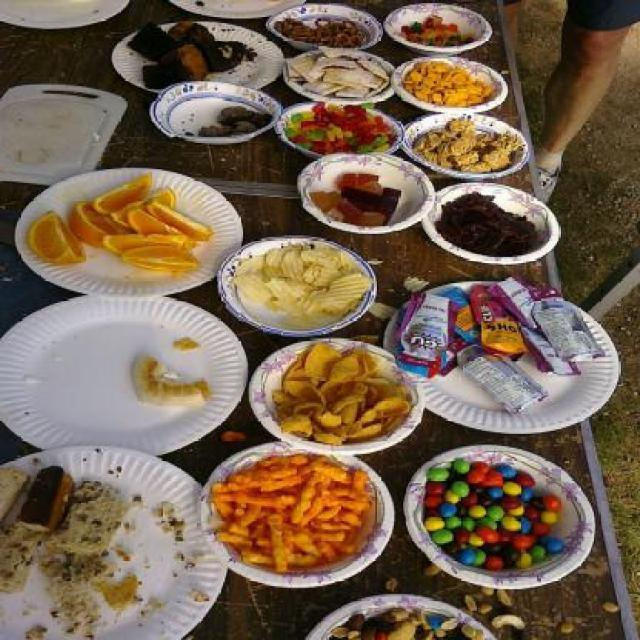Orange: (30, 172, 216, 270)
